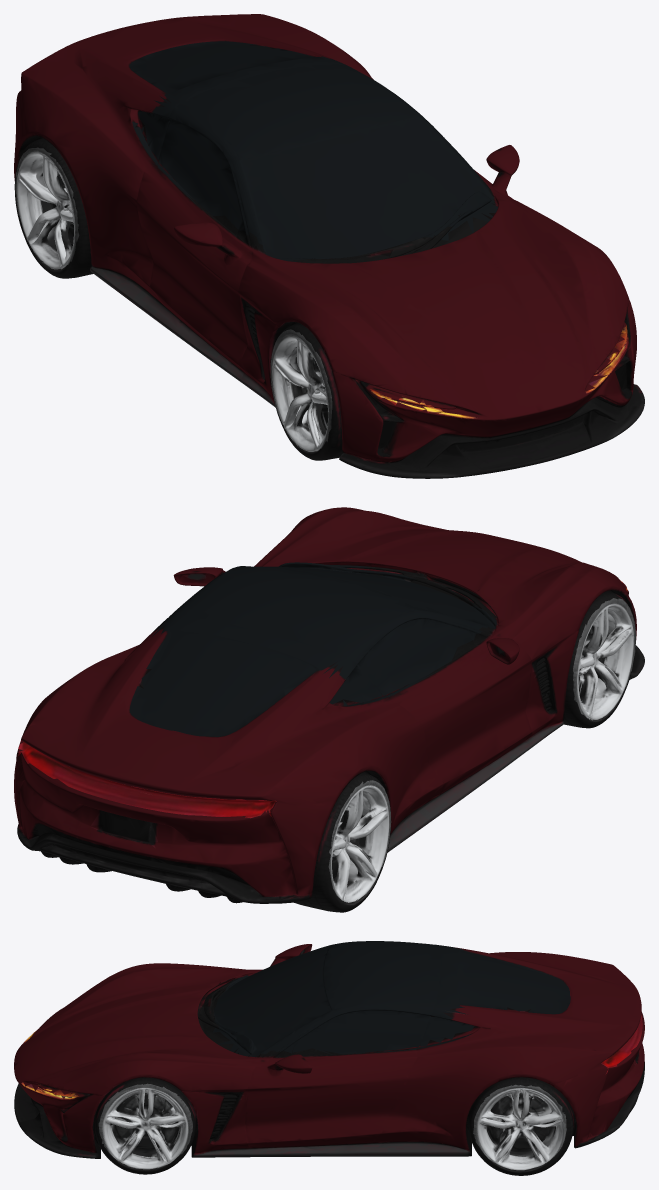
File: coupe.glb
3 views of the same model, one above another, from view 1: azimuth 30°, elevation 25°; view 2: azimuth 150°, elevation 25°; view 3: azimuth 270°, elevation 25° (orthographic). The views are drawn at different scales.
Parts seen in each view (by area): view 1: Vesper tire contact plane; view 2: Vesper tire contact plane; view 3: Vesper tire contact plane.
Boxes of the visible parts, left/top/right/bottom form: Vesper tire contact plane: left=14, top=14, right=644, bottom=478; Vesper tire contact plane: left=14, top=507, right=644, bottom=912; Vesper tire contact plane: left=14, top=941, right=644, bottom=1175.
Size of the model in its own units: 2.19 by 1.29 by 4.72.
7 materials, 6 textured.
